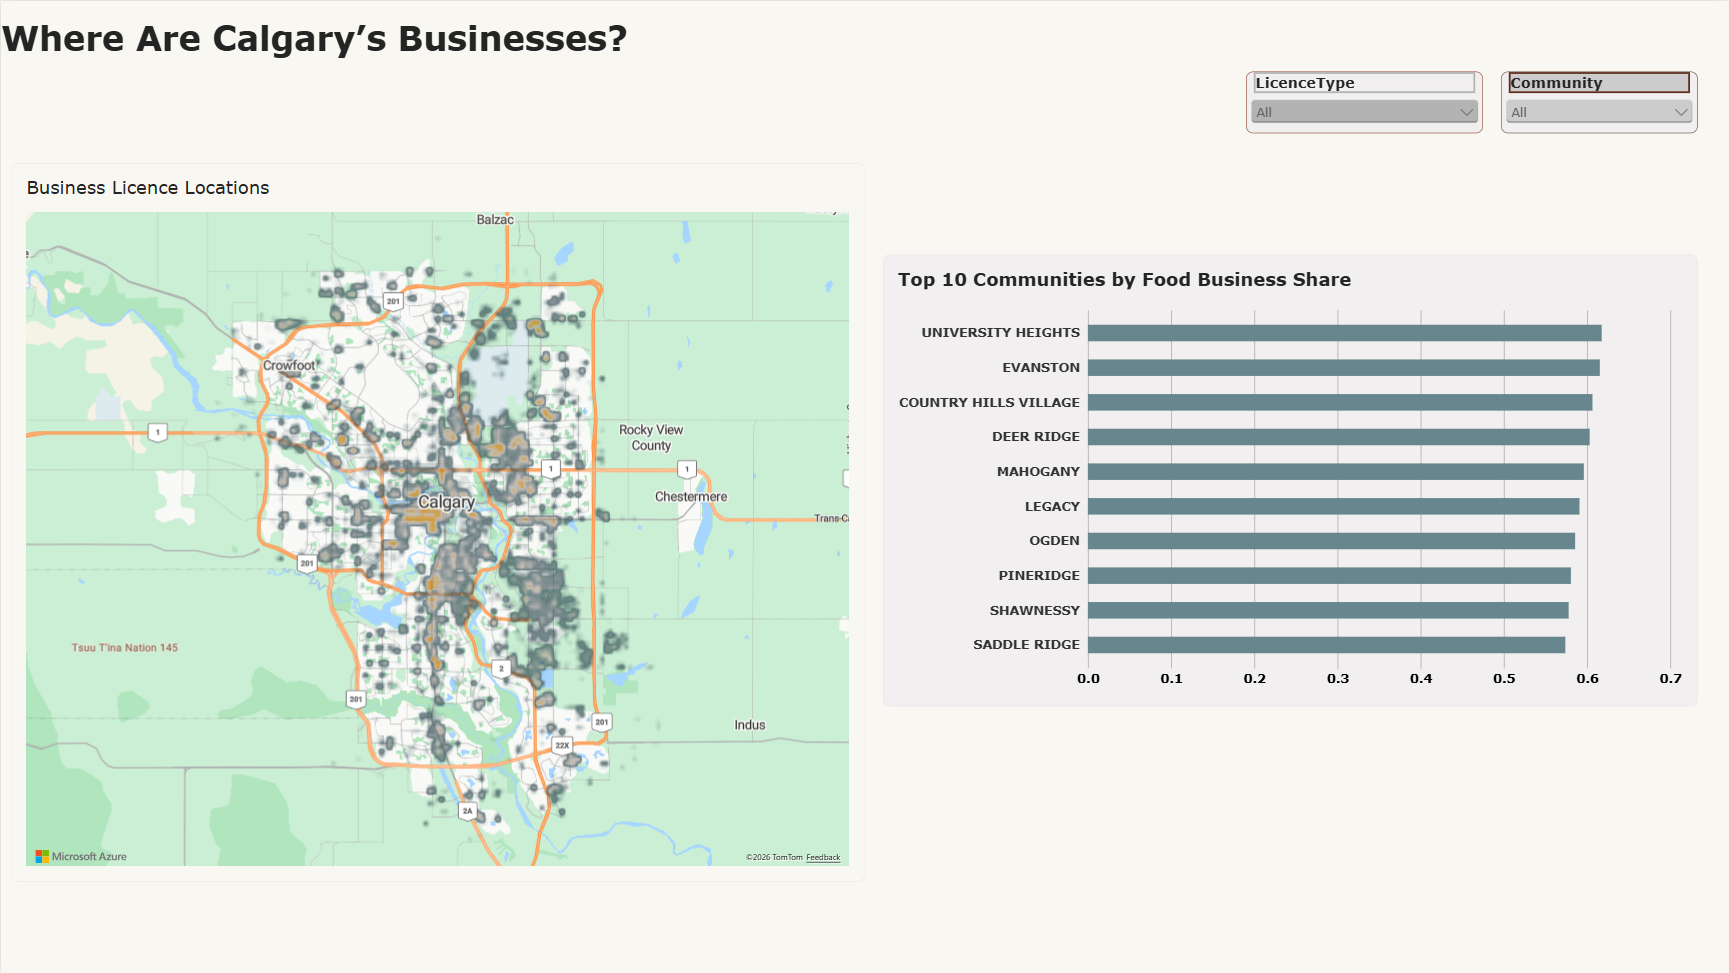

Layout of this report page (visuals, bound fields, positions):
{"tool":"powerbi","page":{"name":"Map","canvas":[1920,1080],"ordinal":1},"visuals":[{"type":"azureMap","title":"Business Licence Locations","fields":{"X":["BusinessLicences.Longitude"],"Y":["BusinessLicences.Latitude"]},"box":[11.7,180,948.3,798.3],"z":0},{"type":"slicer","fields":{"Values":["BusinessLicences.COMDISTNM"]},"box":[1666.7,78.3,218.3,68.3],"z":1000},{"type":"slicer","fields":{"Values":["vw_LicenceTypes.LicenceType"]},"box":[1383.3,78.3,263.3,68.3],"z":1001},{"type":"clusteredBarChart","title":"Top 10 Communities by Food Business Share","fields":{"Category":["BusinessLicences.COMDISTNM"],"Y":["_Measures.Food Share % (50+)"]},"box":[980,281.7,905,501.7],"z":1002},{"type":"textbox","box":[0,18.3,860,120],"z":1003}]}

Visuals, with their boxes in screenshot pixels (x1, y1, x2, y2), scaled from the page's 1920x1080 canvas onto the 1729x973 screenshot:
"Business Licence Locations" azureMap: <box>11,162,864,881</box>
slicer - BusinessLicences.COMDISTNM: <box>1501,71,1697,132</box>
slicer - vw_LicenceTypes.LicenceType: <box>1246,71,1483,132</box>
"Top 10 Communities by Food Business Share" clusteredBarChart: <box>883,254,1697,706</box>
textbox: <box>0,16,774,125</box>
